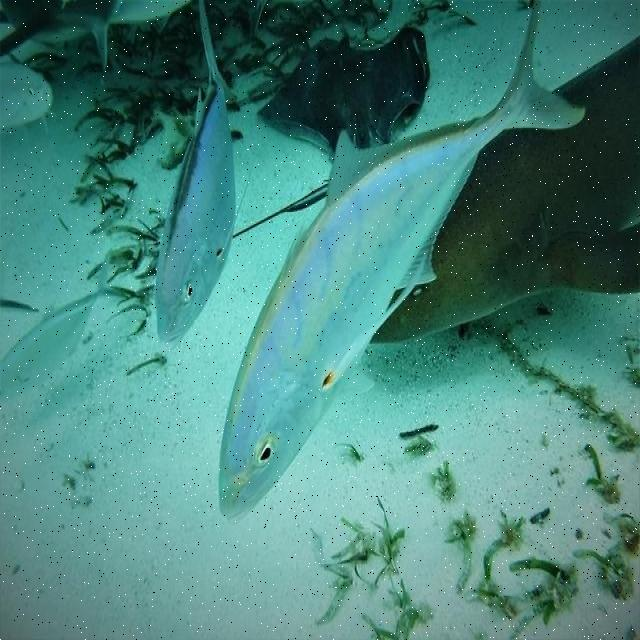fish: (217, 1, 587, 522), (371, 36, 639, 344), (153, 1, 254, 351), (255, 24, 431, 159), (0, 252, 133, 401), (0, 1, 187, 71), (0, 63, 60, 134)
